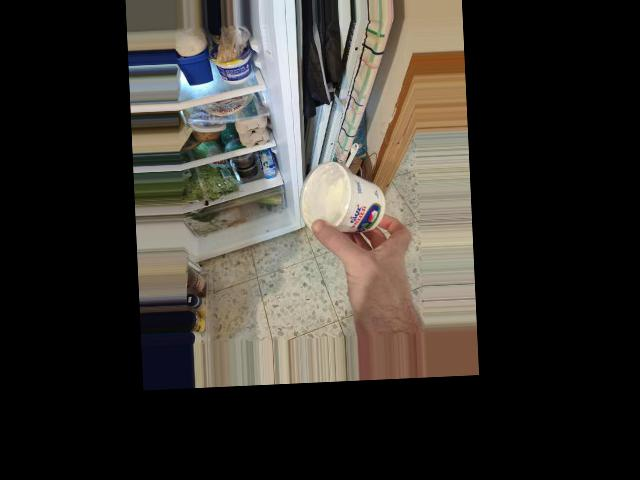cotage: (303, 150, 383, 234)
